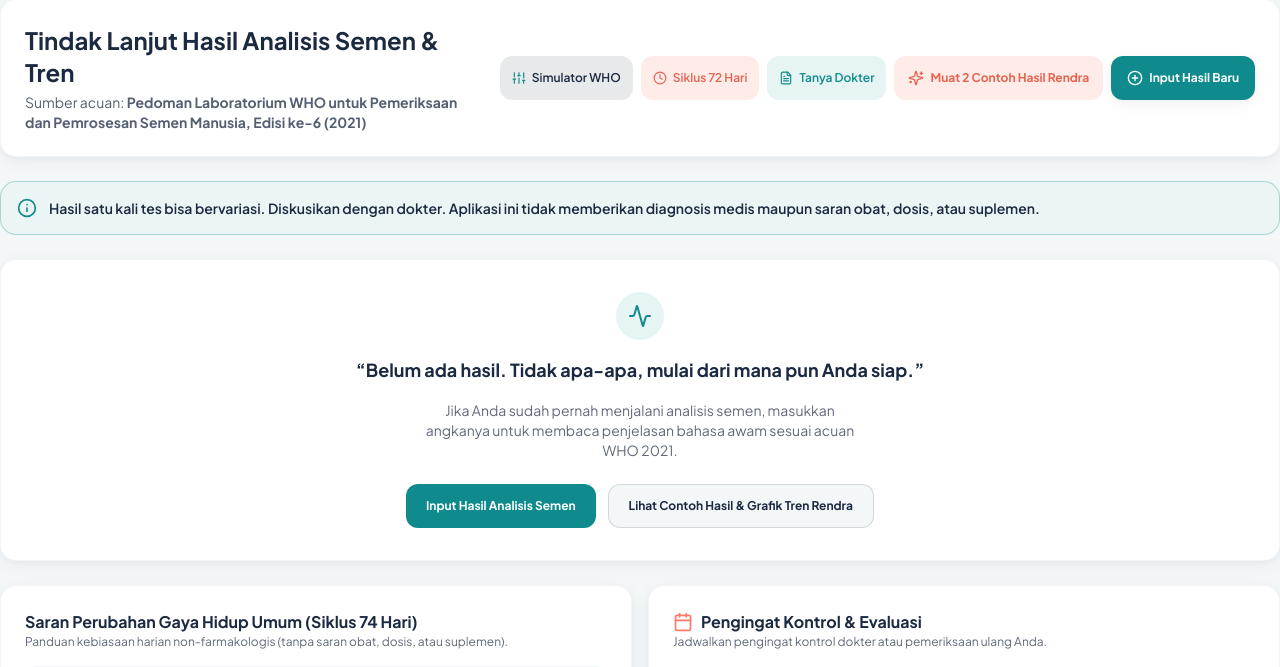
Uji Alur Utama, Privasi & Aksesibilitas Dasar (Side by Side) › Alur 6: Tindak Lanjut Hasil menampilkan microcopy kosong lalu memuat Grafik Tren SVG dan rujukan WHO 2021
This screenshot has width=1280, height=667.
Expected: the heading "Belum ada hasil. Tidak apa-apa, mulai dari mana pun Anda siap." is shown, [366,358,914,381]
Click the button "Lihat Contoh Hasil & Grafik Tren Rendra" at (741,506), box [608,484,874,528]
(page scrolled)
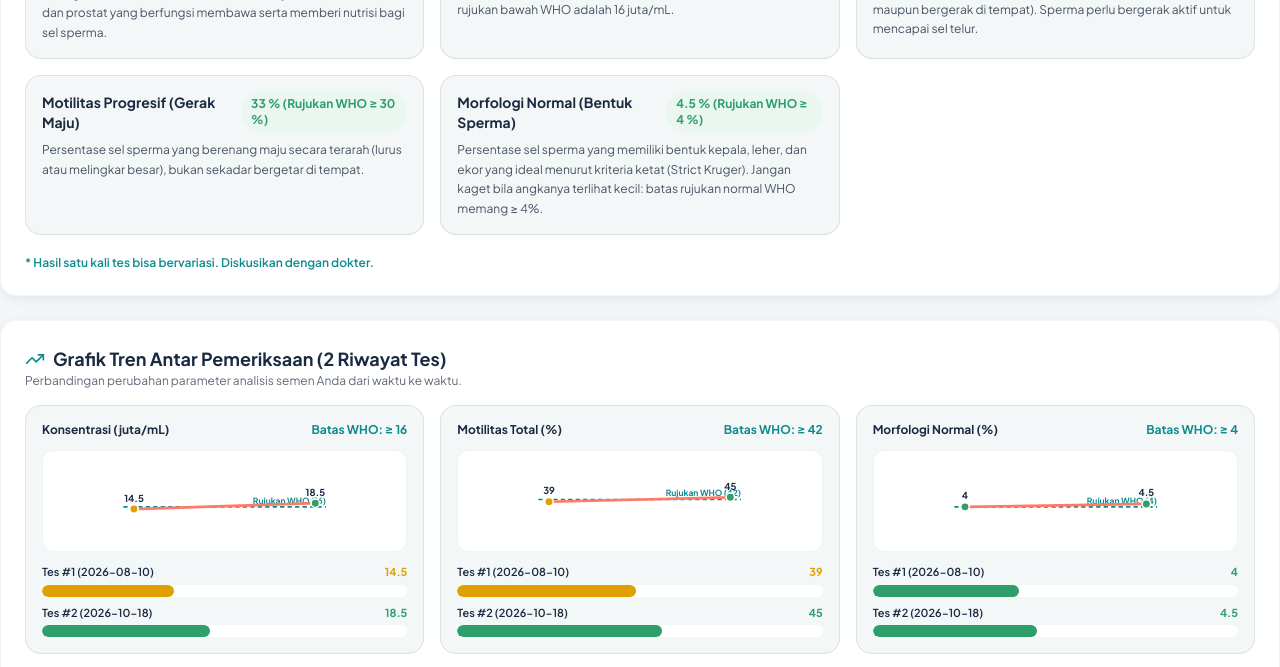
Expected: the text "Grafik Tren Antar Pemeriksaan (2 Riwayat Tes)" is shown, [53,345,446,373]
